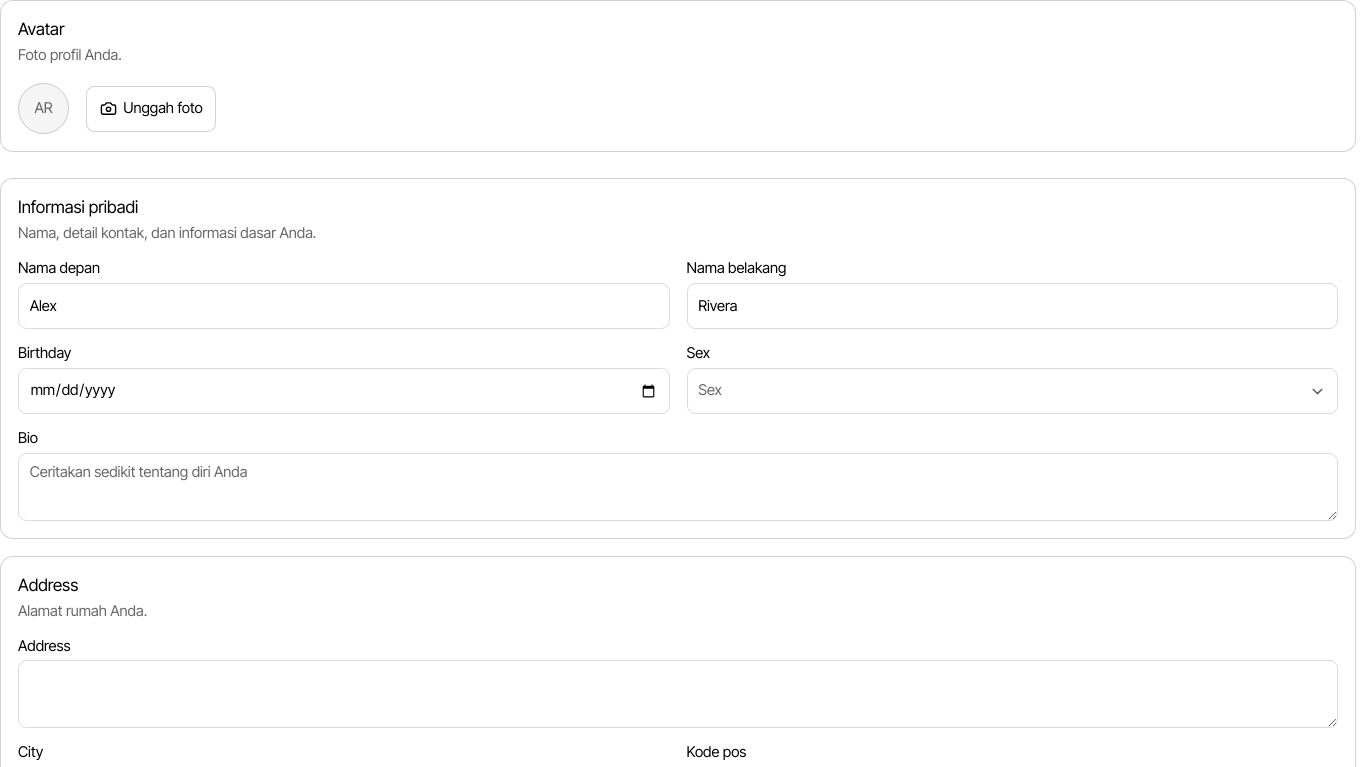
it: ProfileForm extra › offers avatar upload and sex selection
The width and height of the screenshot is (1366, 767).
expect the field showing "Alex" is shown: met, box [18, 283, 670, 329]
expect the button "Unggah foto" is shown: met, box [86, 86, 216, 132]
Click the dropdown labelled "Sex": (710, 390) [686, 368, 1338, 414]
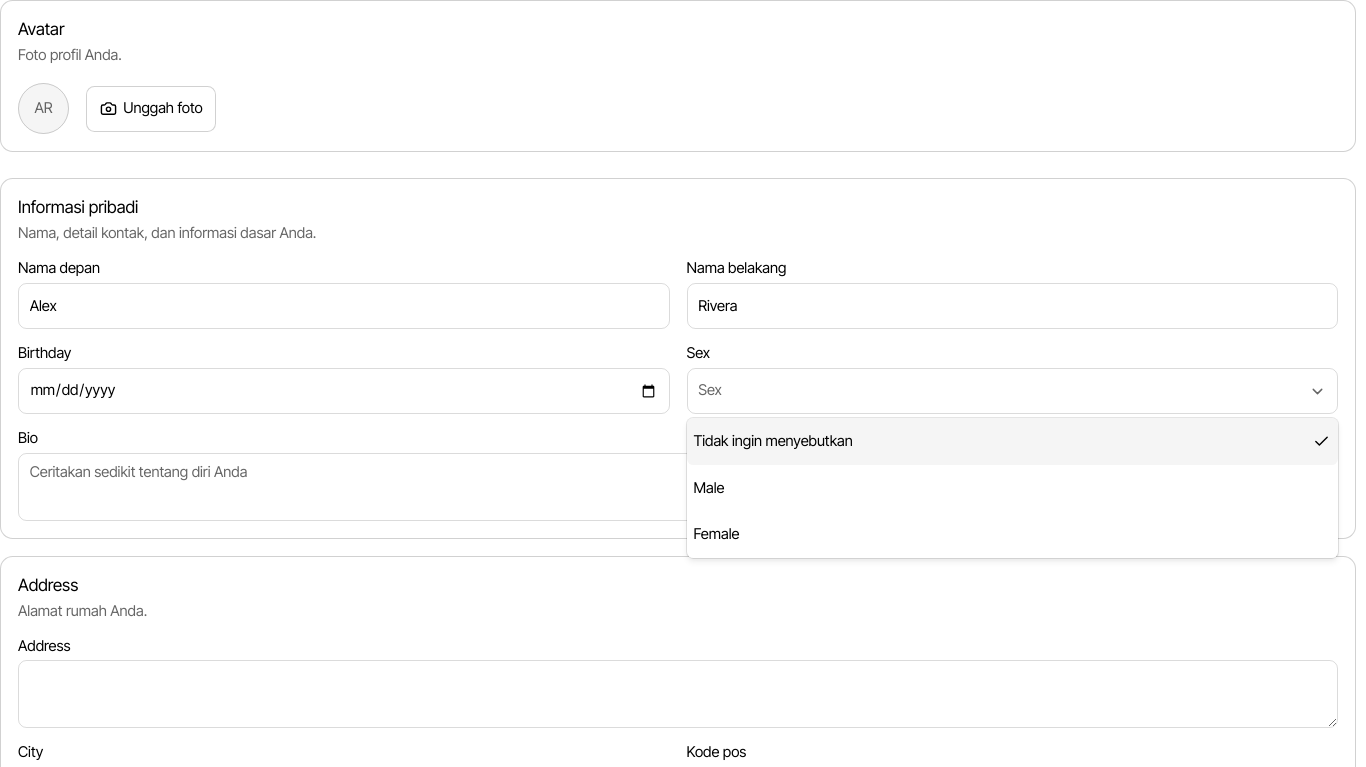
expect the option "Tidak ingin menyebutkan" is shown: met, box [687, 418, 1338, 465]
expect the option "Male" is shown: met, box [693, 478, 724, 496]
expect the option "Female" is shown: met, box [693, 525, 739, 543]
